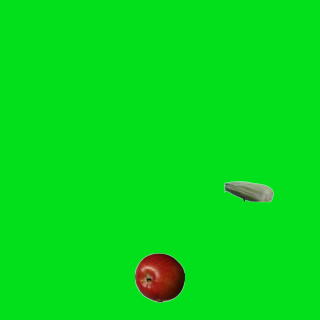Apple Braeburn: (134, 252, 184, 302)
Corn Husk: (223, 166, 273, 216)
